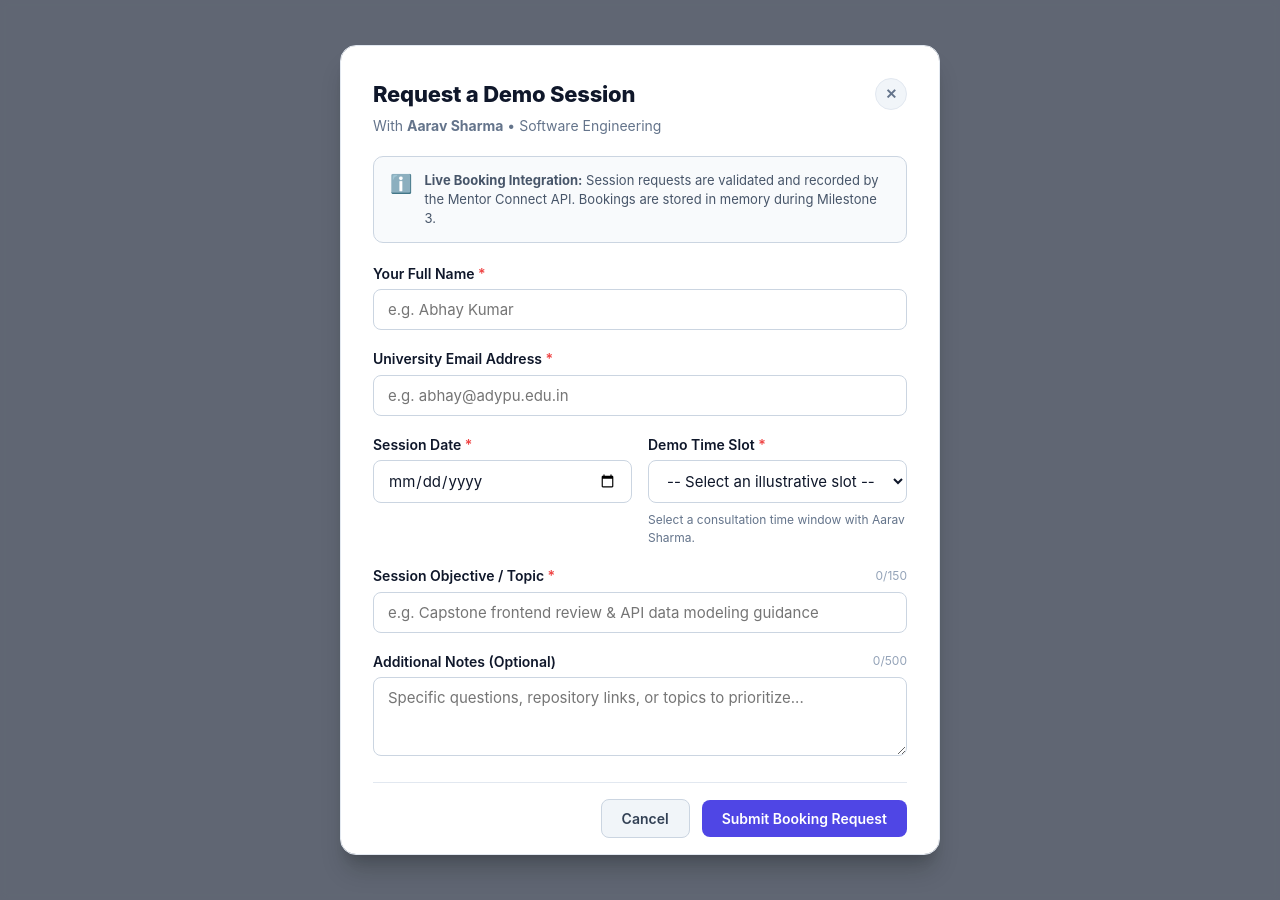
Test: Booking Modal › displays loading state and prevents duplicate submission while request is in flight
Type "Abhay Kumar" into the field labelled "Your Full Name *" at (640,310), box [373,289,907,330]
Type "abhay@adypu.edu.in" into the field labelled "University Email Address *" at (640,395), box [373,375,907,416]
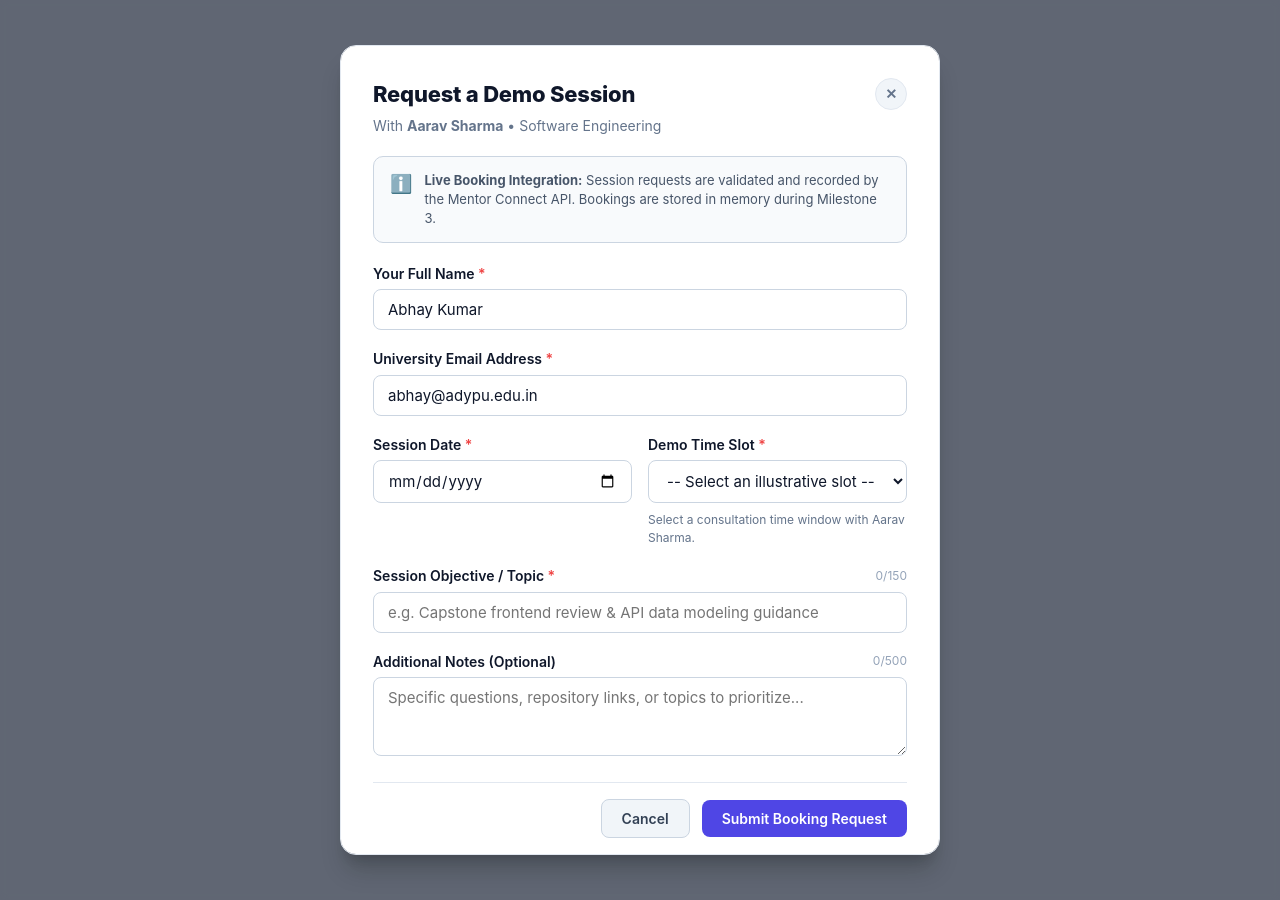
Type "2026-11-01" into the date field labelled "Session Date *" at (502,482), box [373,460,632,503]
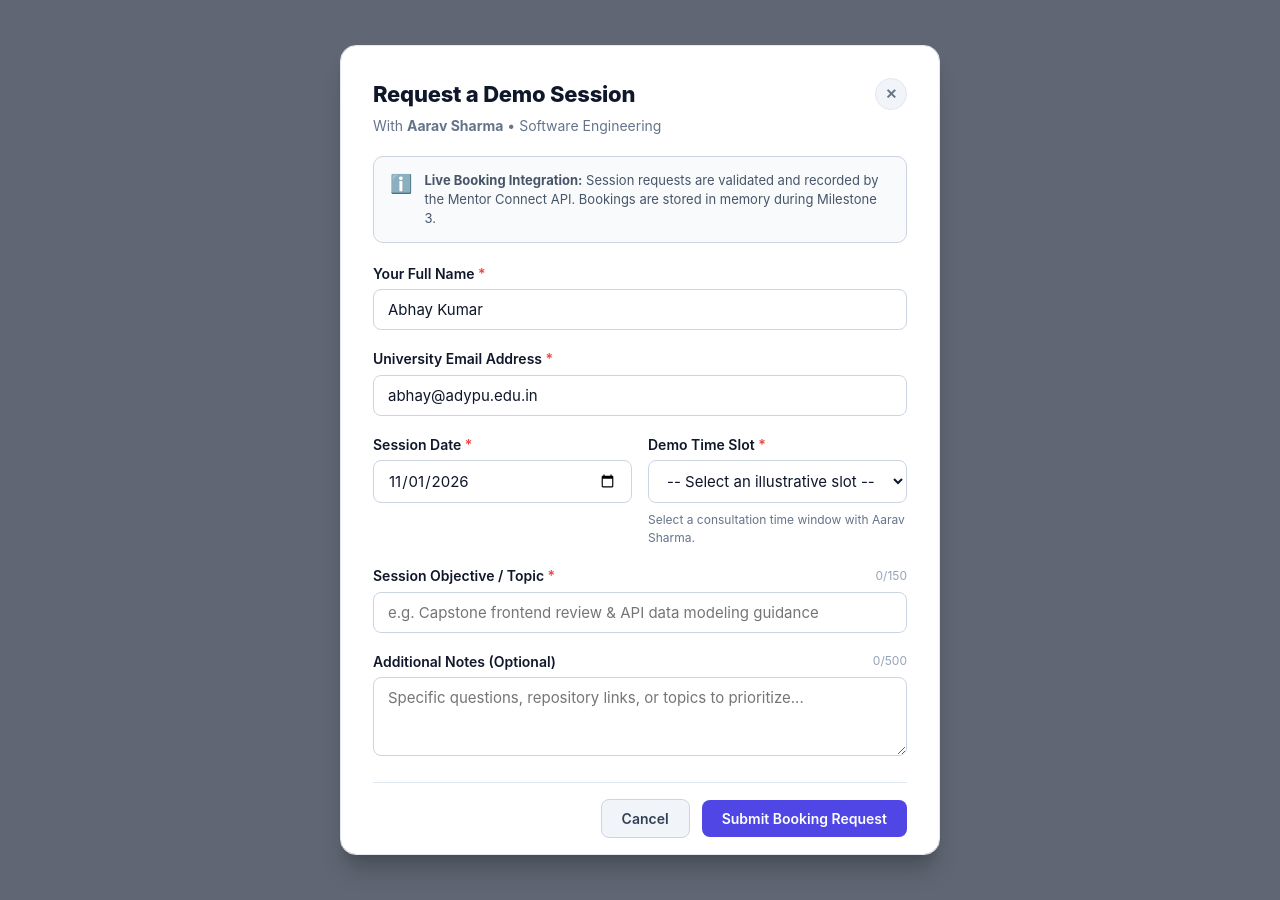
Select "10:00 AM – 11:00 AM IST" in the dropdown labelled "Demo Time Slot *" at (778,482), box [648,460,907,503]
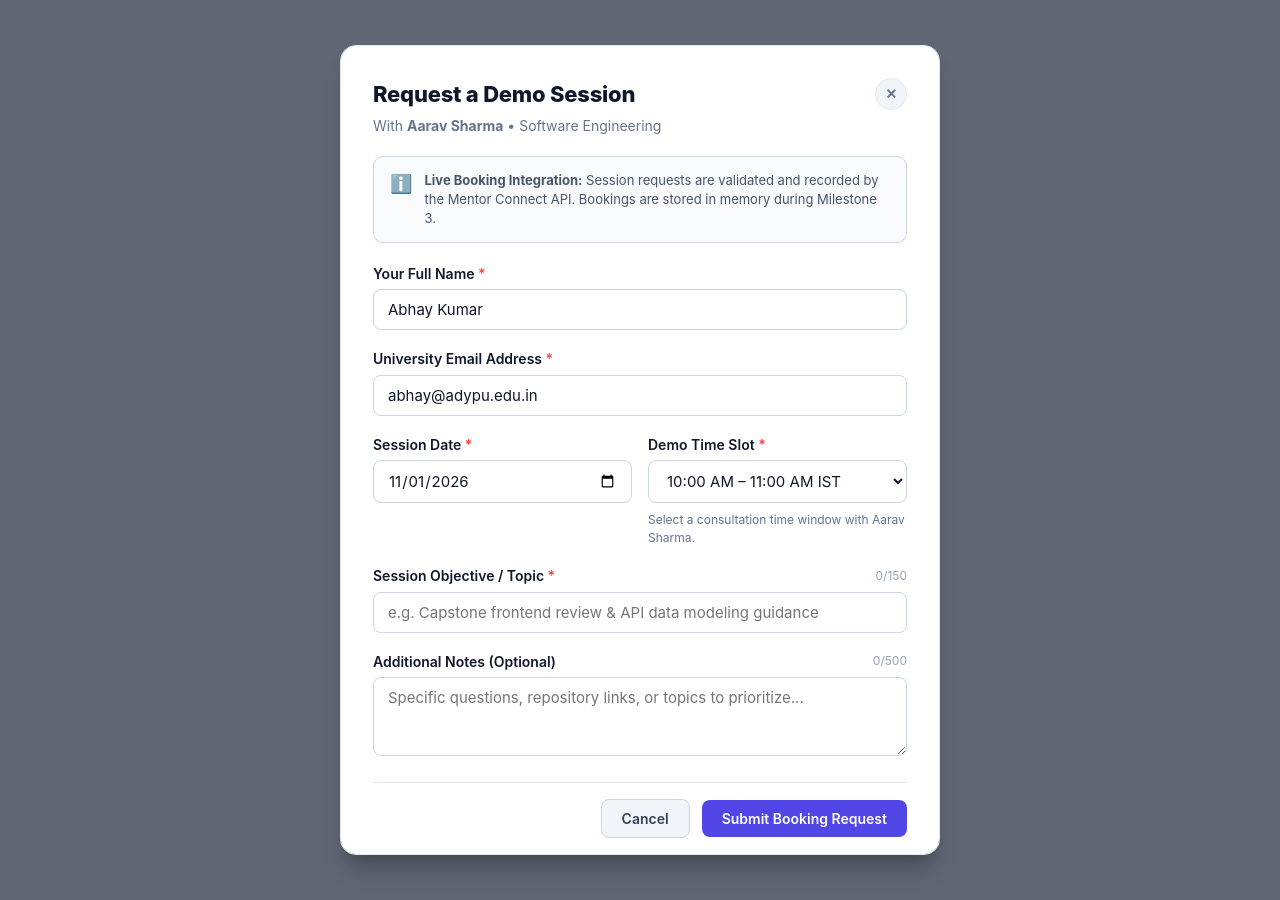
Type "Code Review" into the field labelled "Session Objective / Topic *" at (640,612), box [373,592,907,633]
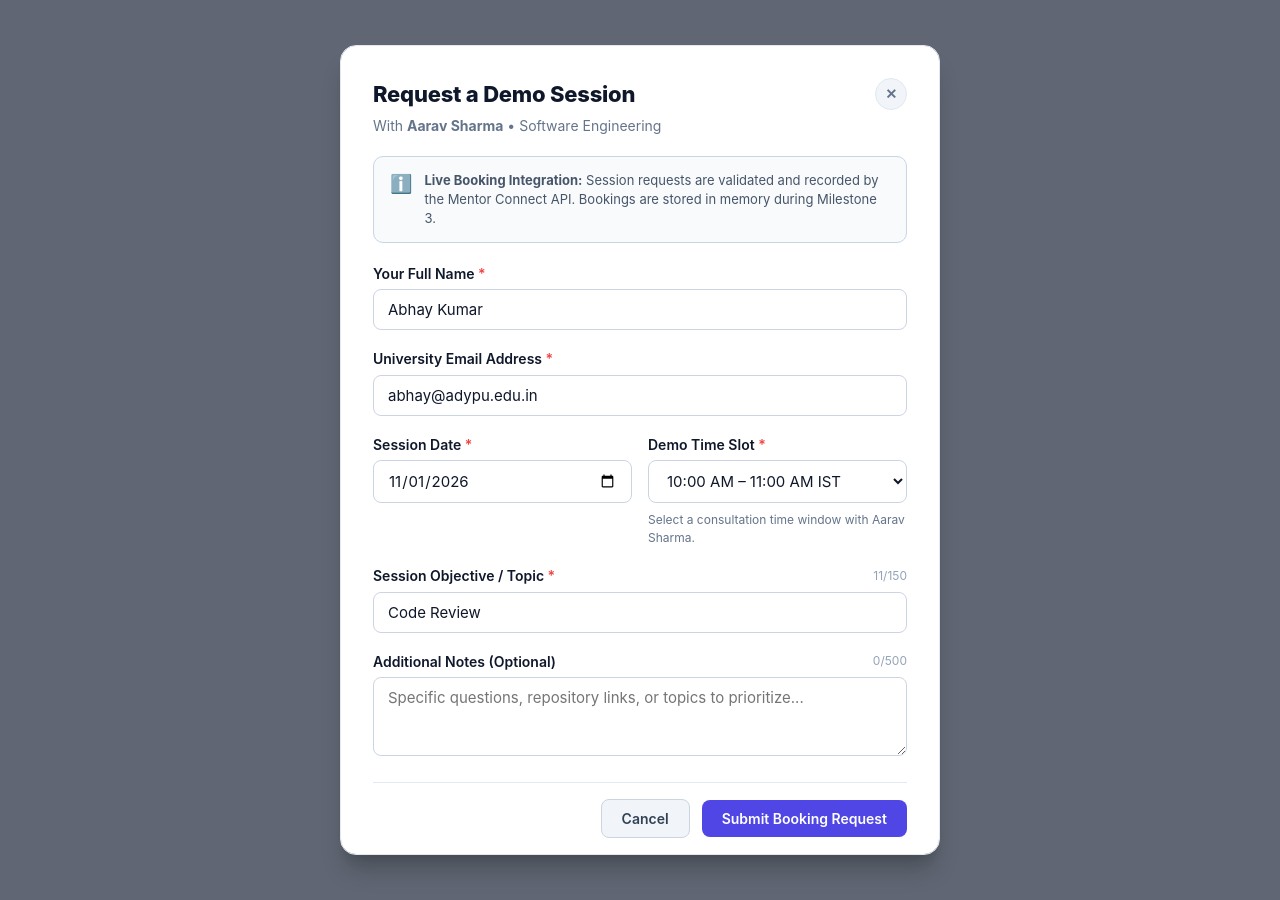
Click the button "Submit Booking Request" at (804,819), box [702,800,907,838]
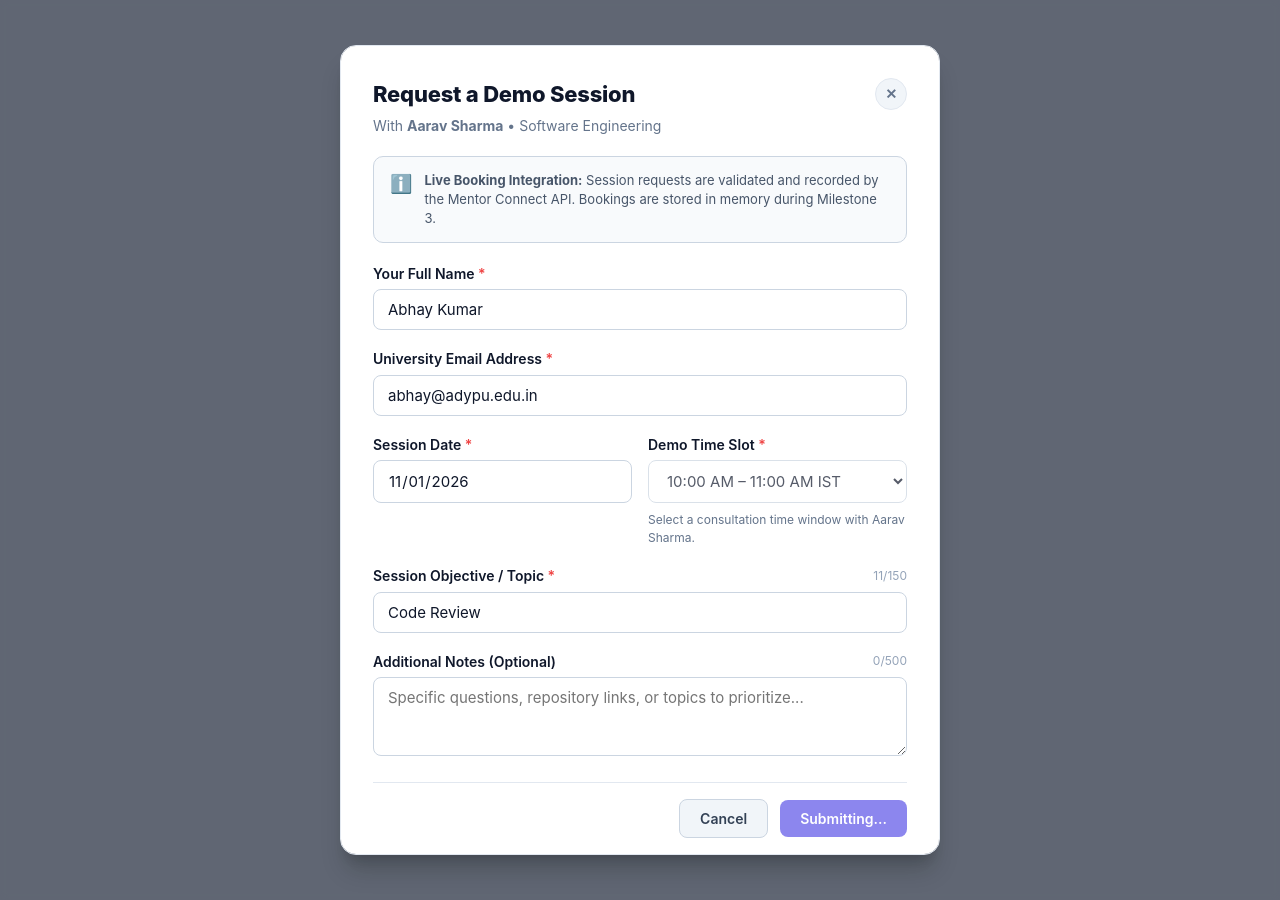
Now the button "Submitting..." is disabled
Now the button "Cancel" is disabled, box [679,800,768,838]
# Secondary click attempt should not trigger a second API call
Click the button "Submitting..." at (844,819), box [780,800,907,838]
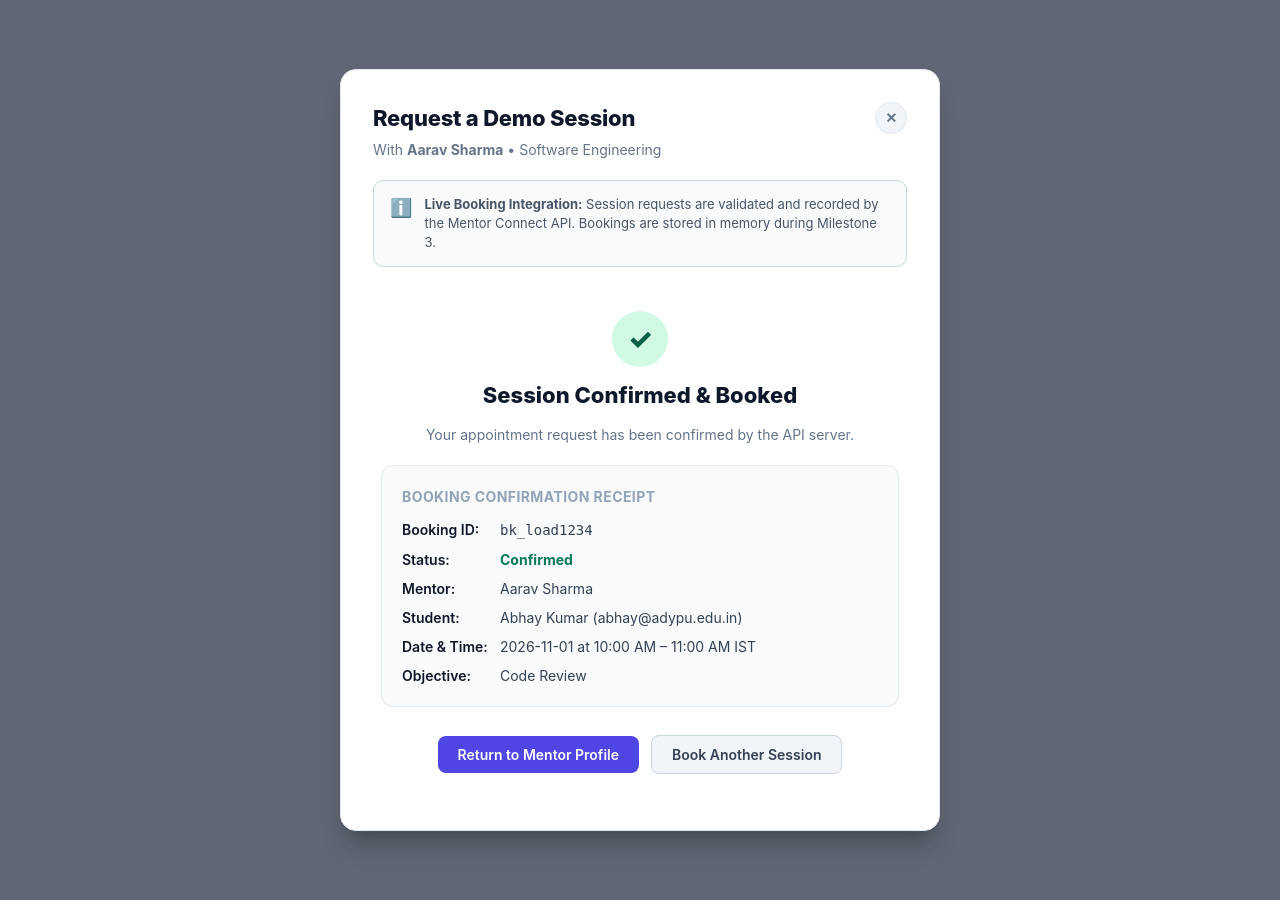
Now the heading "Session Confirmed & Booked" is shown, box [483,379,797,412]
